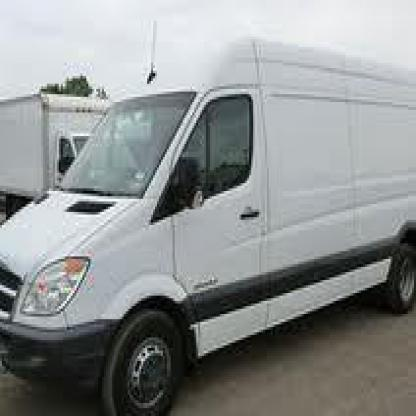Vehicle: (2, 40, 414, 414)
